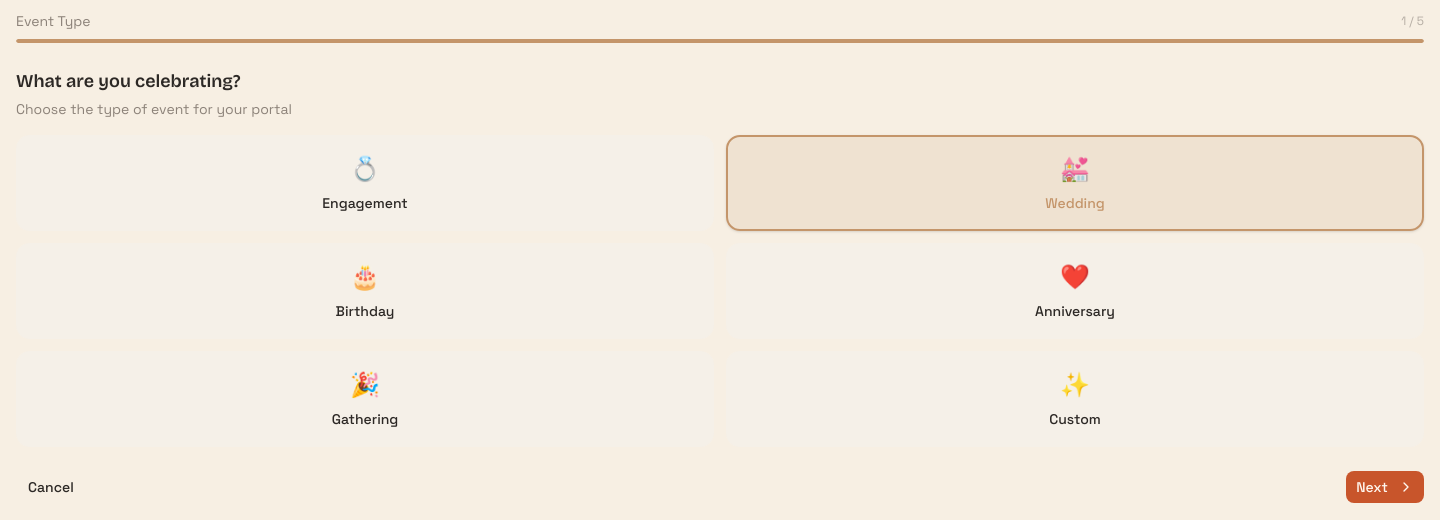
Test: PortalCreationWizard › requires title before proceeding from step 2
# Go to step 2
Click the button "Next".
click(1385, 487)  # box [1346,471,1424,503]
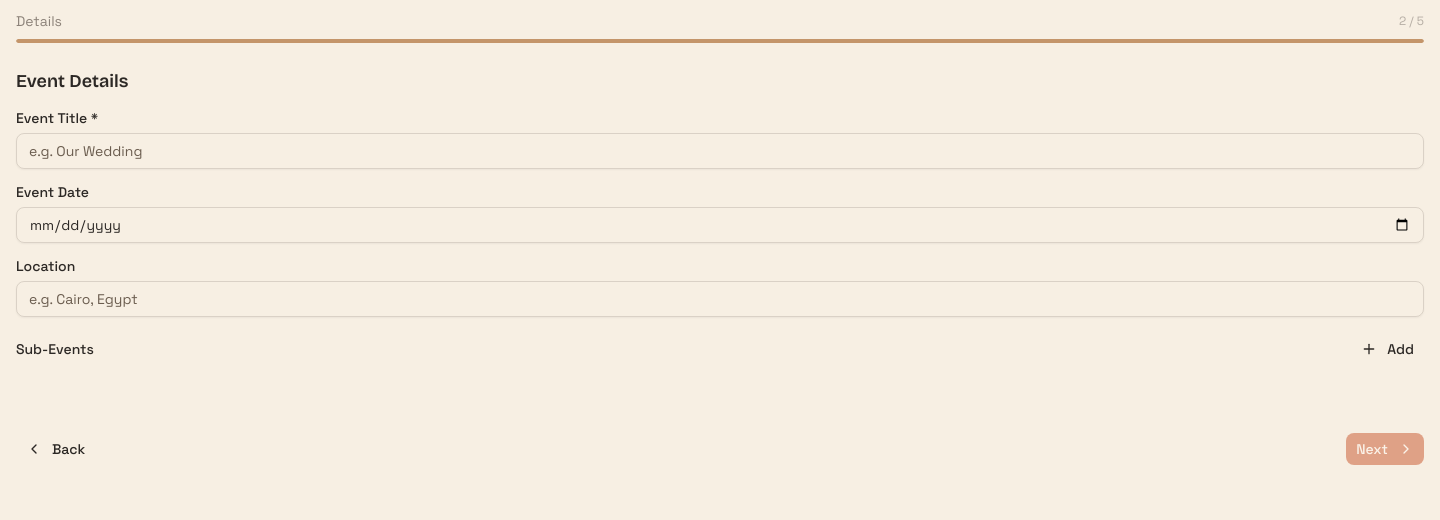
Now the button "Next" is disabled, box [1346,433,1424,465]
# Type a title
Type "Our Wedding" into the field with test id "portal-title-input".
click(720, 151); type("Our Wedding")  # box [16,133,1424,169]
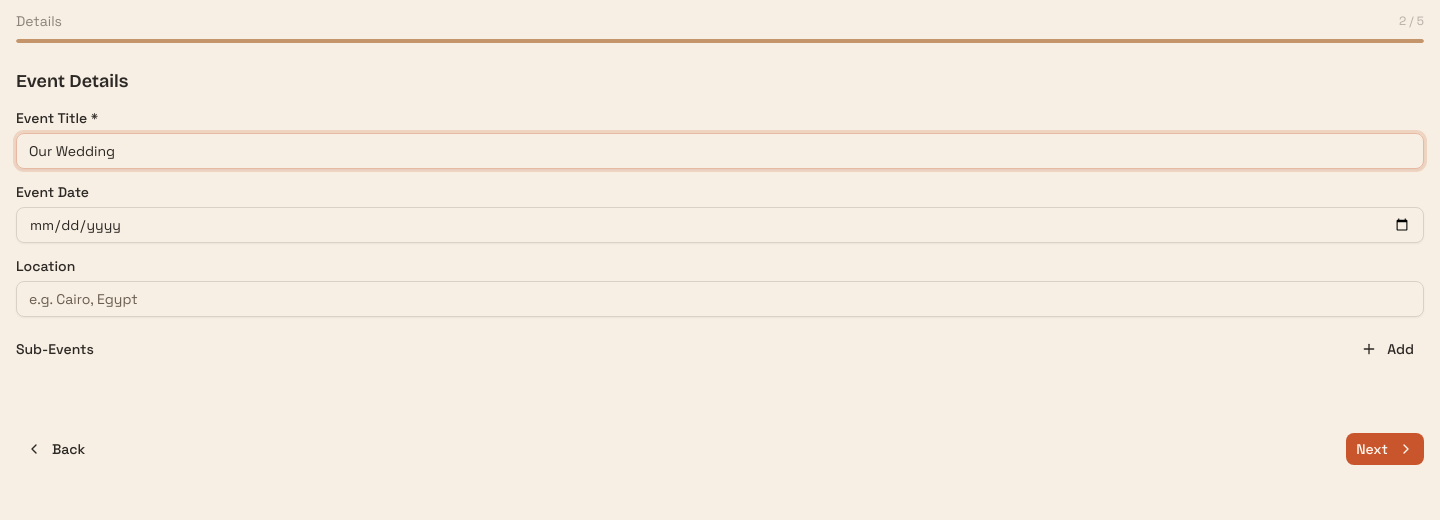
Now the button "Next" is enabled, box [1346,433,1424,465]
